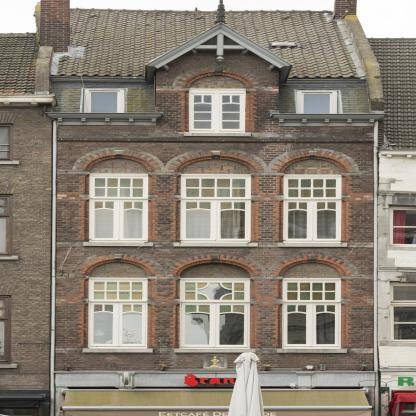Building Outline: (34, 0, 386, 415)
Cornice: (164, 252, 267, 277), (165, 148, 267, 173), (171, 63, 265, 89), (72, 147, 165, 173), (72, 251, 164, 277), (266, 252, 360, 277), (266, 148, 360, 173)
Facade: (55, 78, 373, 416)
Floor: (55, 148, 373, 262), (55, 262, 373, 371)
Floor Slab: (56, 365, 374, 371), (56, 256, 374, 262), (56, 142, 374, 148)
Ground Floor: (55, 371, 373, 416)
Molding: (58, 118, 156, 126), (278, 119, 374, 127)
Roof: (51, 7, 366, 79)
Shop: (184, 373, 251, 386), (158, 411, 278, 416)
Sill: (45, 112, 164, 120), (270, 114, 387, 121), (277, 348, 348, 354), (174, 242, 259, 247), (173, 348, 256, 353), (82, 348, 153, 353), (83, 242, 154, 247), (277, 242, 348, 247), (184, 132, 251, 137)
Top Floor: (55, 77, 373, 148)
Window: (180, 278, 249, 349), (181, 174, 250, 243), (89, 278, 147, 348), (283, 279, 341, 349), (90, 173, 148, 242), (284, 175, 341, 243), (189, 88, 245, 133), (85, 89, 124, 118), (297, 92, 337, 119)
dont: (227, 352, 265, 416)
